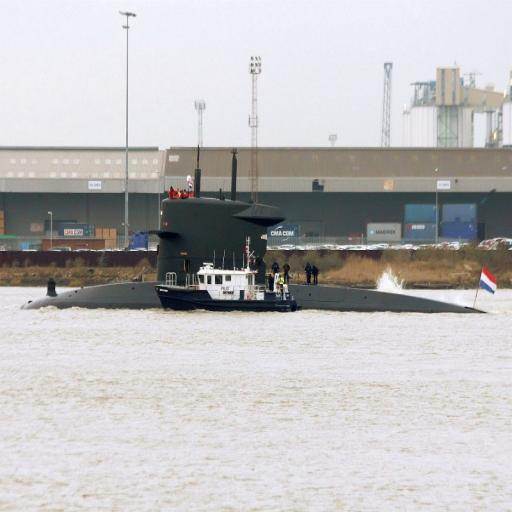submarine: (24, 165, 490, 313)
